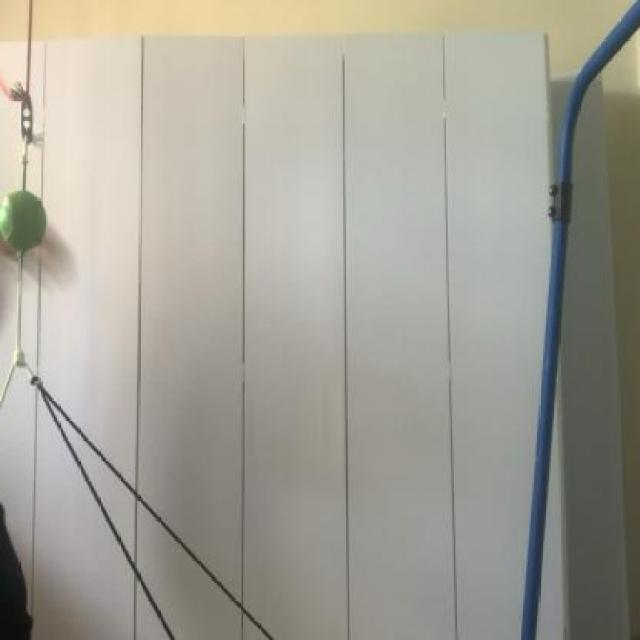baseball: (0, 169, 51, 260)
